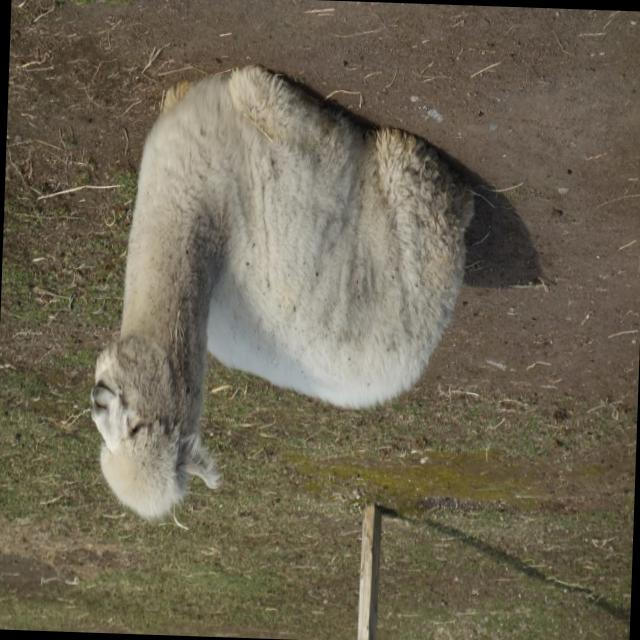alpaca: (86, 62, 474, 530)
